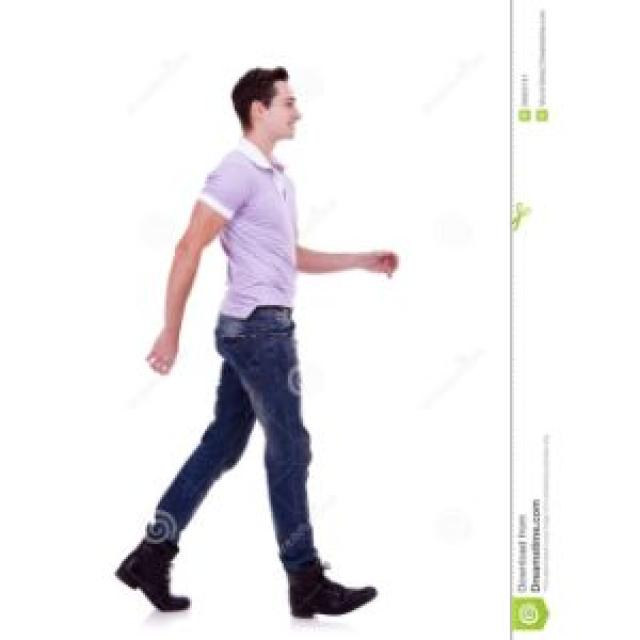nonfall: (127, 52, 373, 624)
